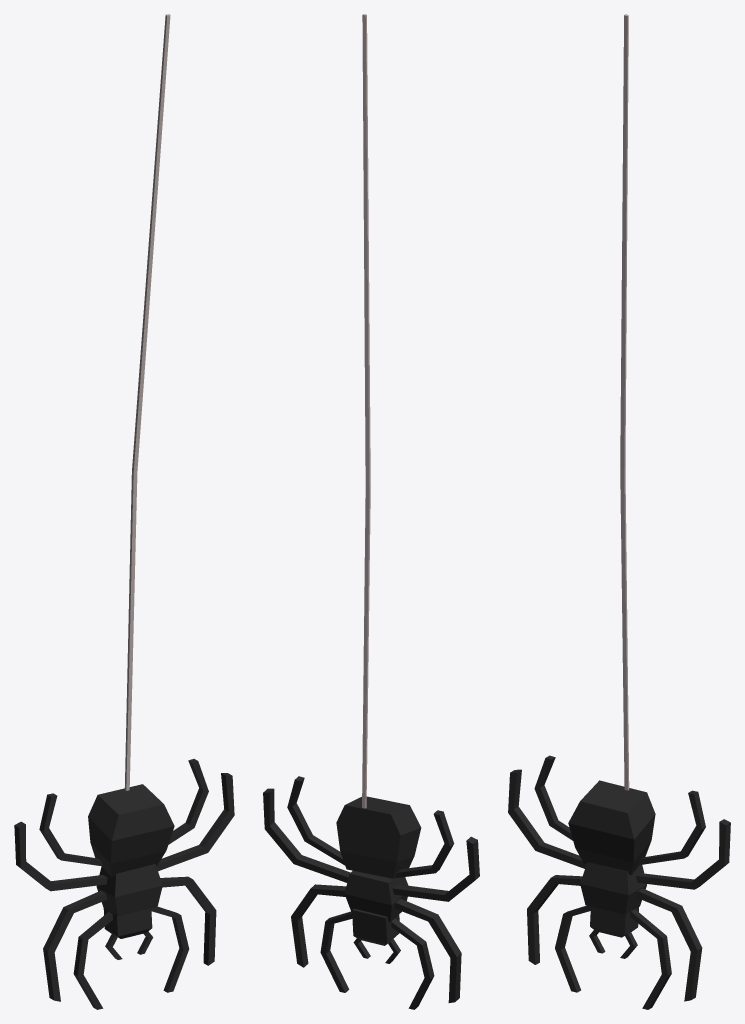
File: HWN20_Spider_01.glb
3 renders of one model, left to right at view 1: azimuth 30°, elevation 25°; view 2: azimuth 150°, elevation 25°; view 3: azimuth 330°, elevation 25°, orthographic. The views are drawn at different scales.
Parts seen in each view (by area): view 1: HWN20_Spider_01; view 2: HWN20_Spider_01; view 3: HWN20_Spider_01.
Part boxes in pixels (x1=…): HWN20_Spider_01: x1=14, y1=14, x2=234, y2=1009; HWN20_Spider_01: x1=263, y1=14, x2=479, y2=1009; HWN20_Spider_01: x1=508, y1=14, x2=730, y2=1009.
Bounding box in the file's own units: 0.0986 × 0.4349 × 0.0194.
Materials: 1 (1 with a texture image).
